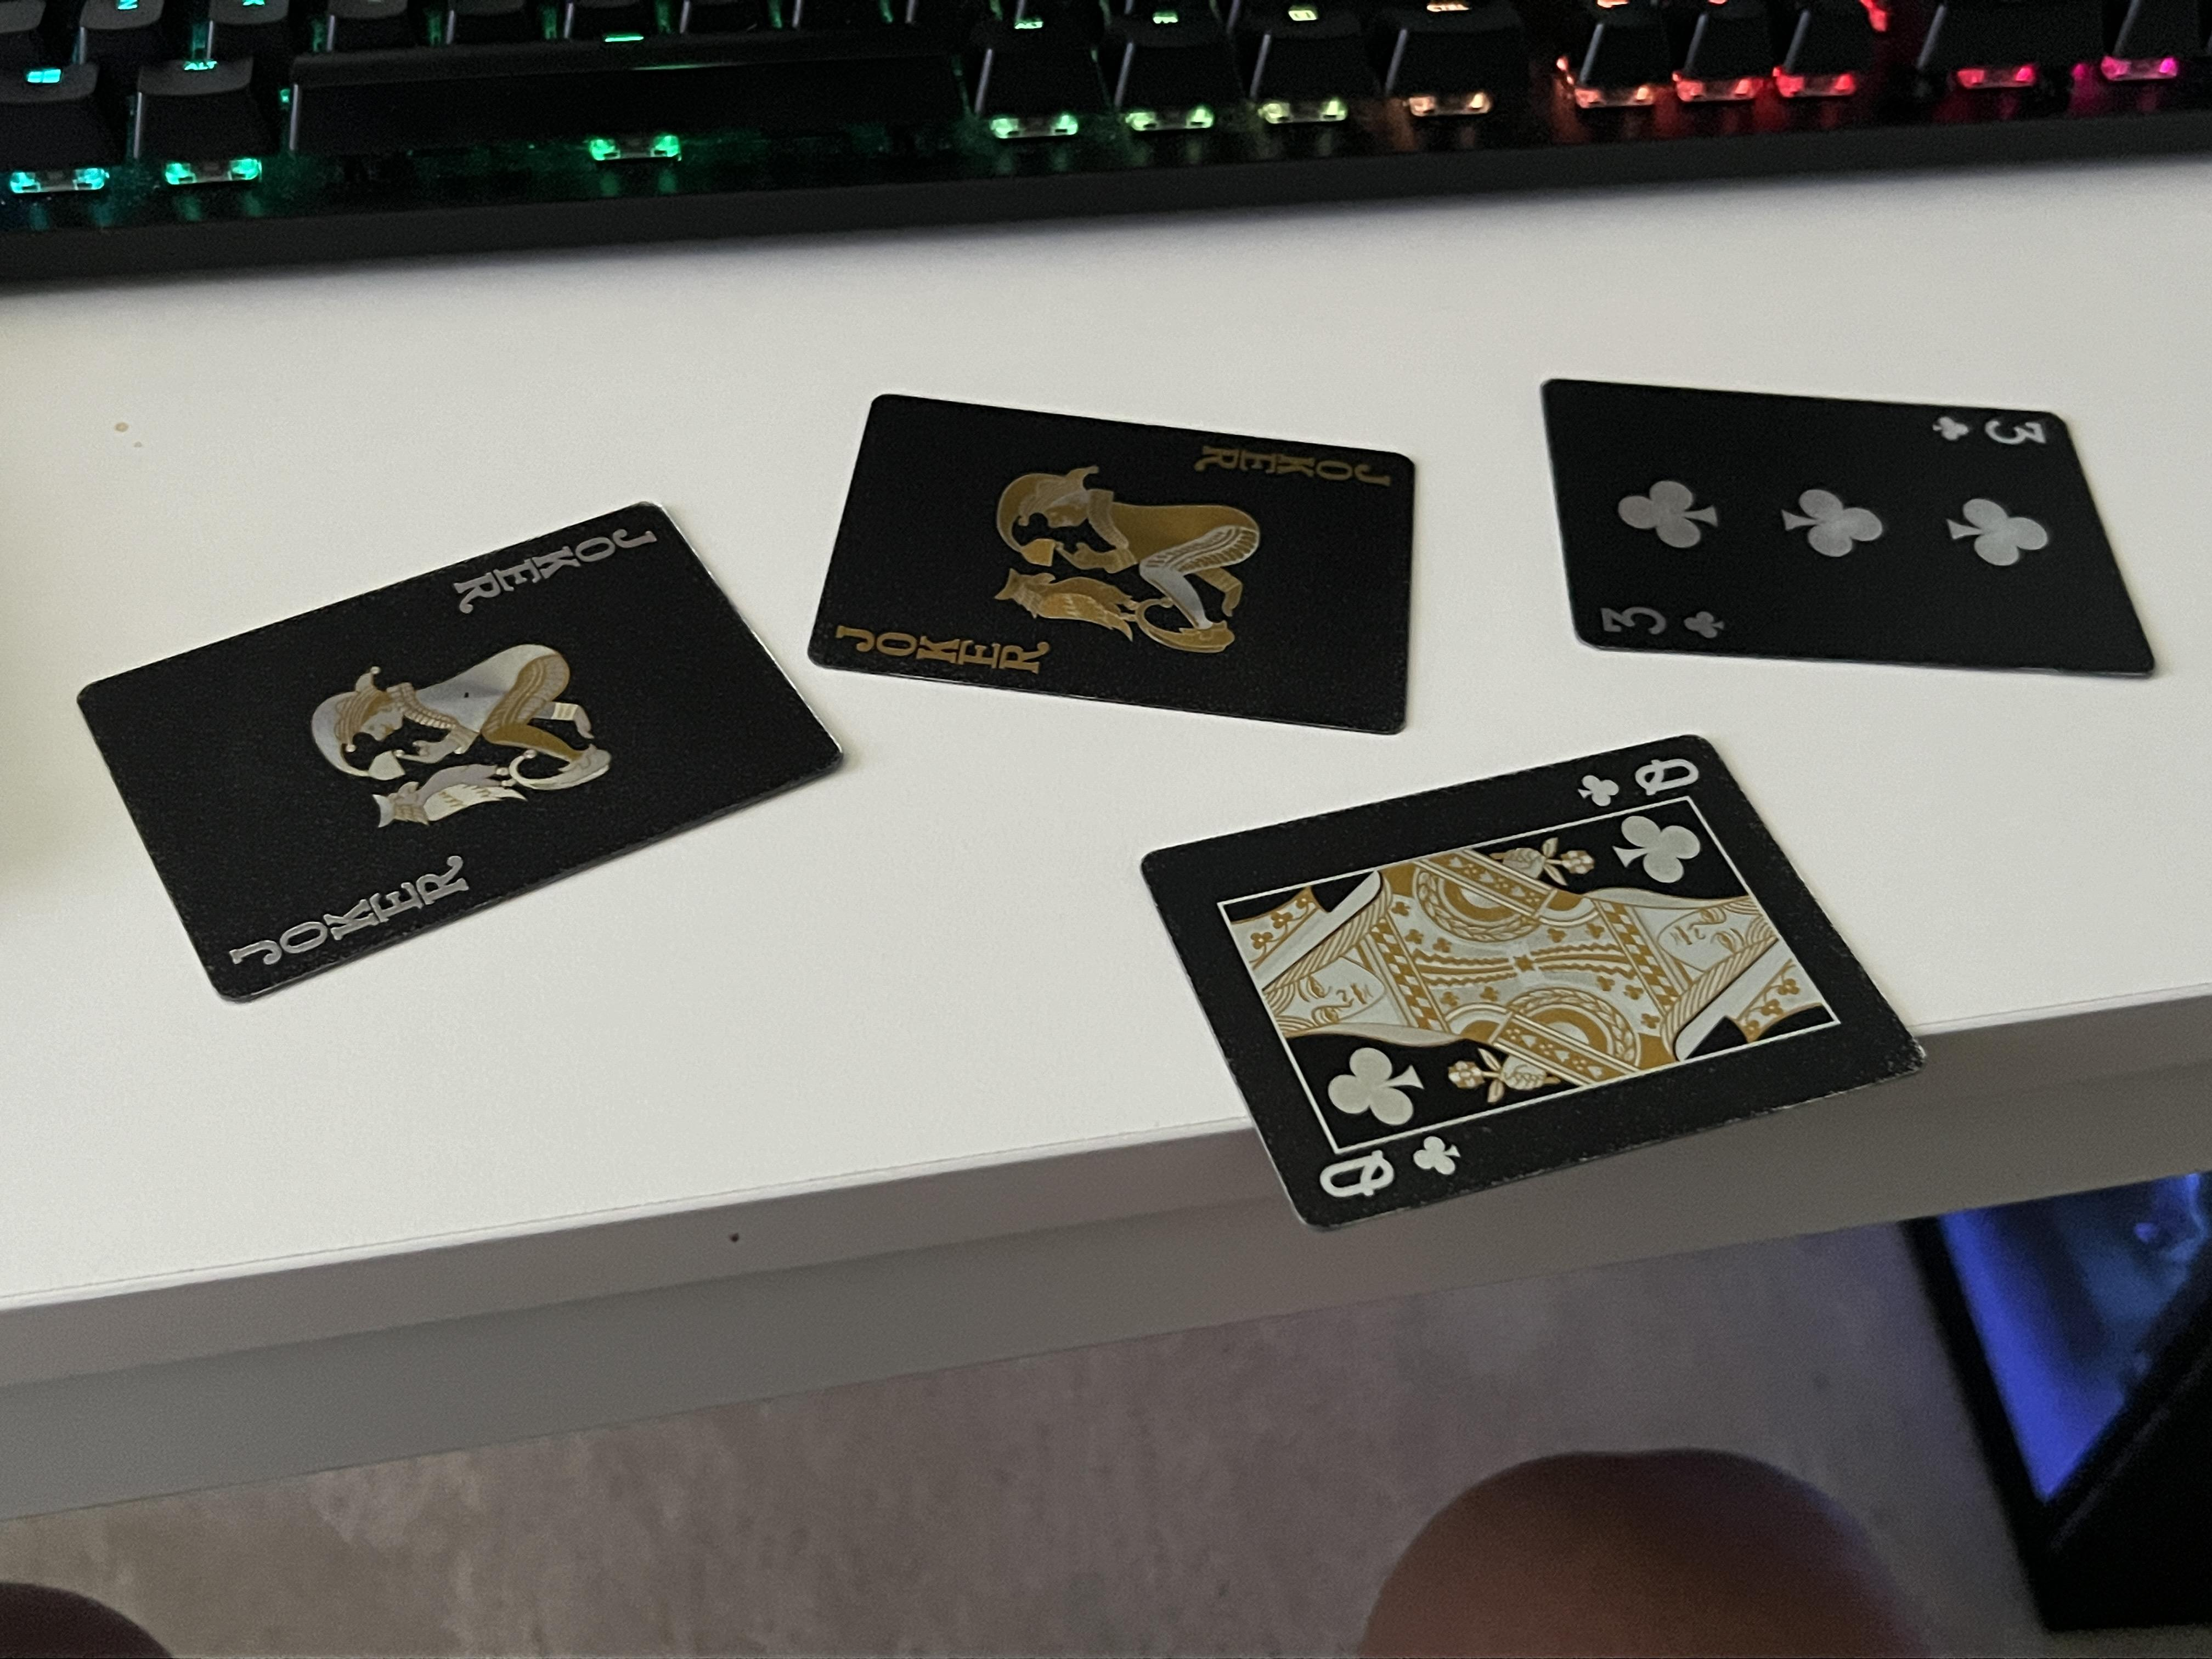3C: (1926, 404, 2062, 465), (1592, 596, 1737, 647)
BLACK JOKER: (202, 849, 496, 971), (437, 518, 671, 622)
QC: (1313, 1136, 1467, 1206), (1569, 748, 1709, 810)
RED JOKER: (833, 608, 1062, 694), (1177, 434, 1409, 497)
